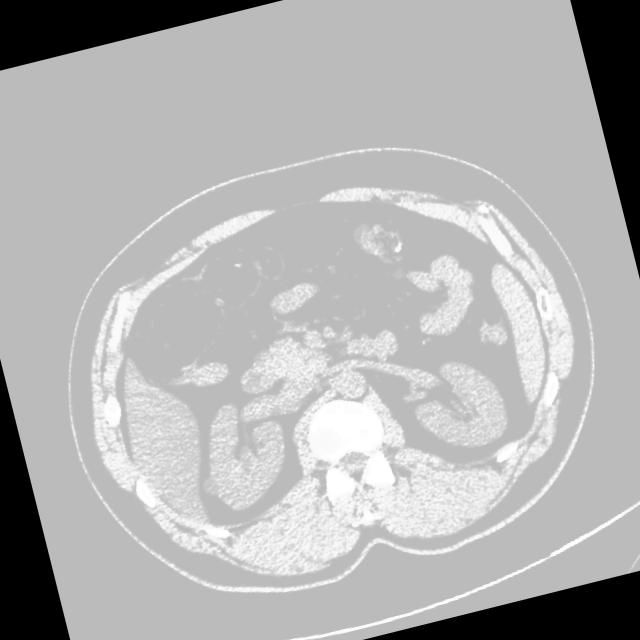cysts: (37, 123, 626, 631)
